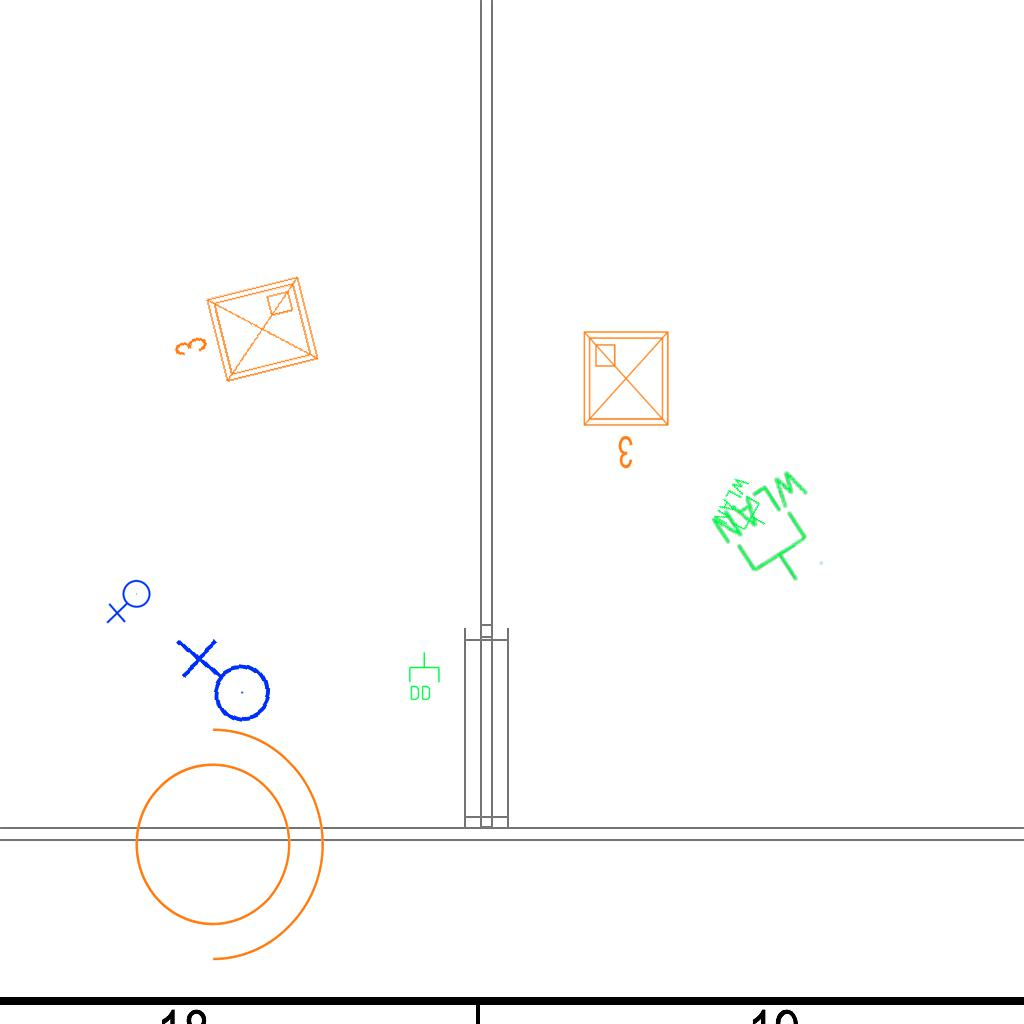Datenanschluss_zweifach: (407, 651, 441, 702)
Einbaudownlights_LED_Konferenzraeume: (157, 267, 329, 405), (576, 324, 680, 474)
Elektroanschluss_allgemein_230V_Geraeteanschlussdose_230V: (170, 628, 277, 738), (106, 579, 155, 626)
Scheinwerfer_fuer_Alarmbeleuchtung: (110, 706, 335, 970)
WLAN: (705, 461, 851, 606), (710, 472, 782, 544)
